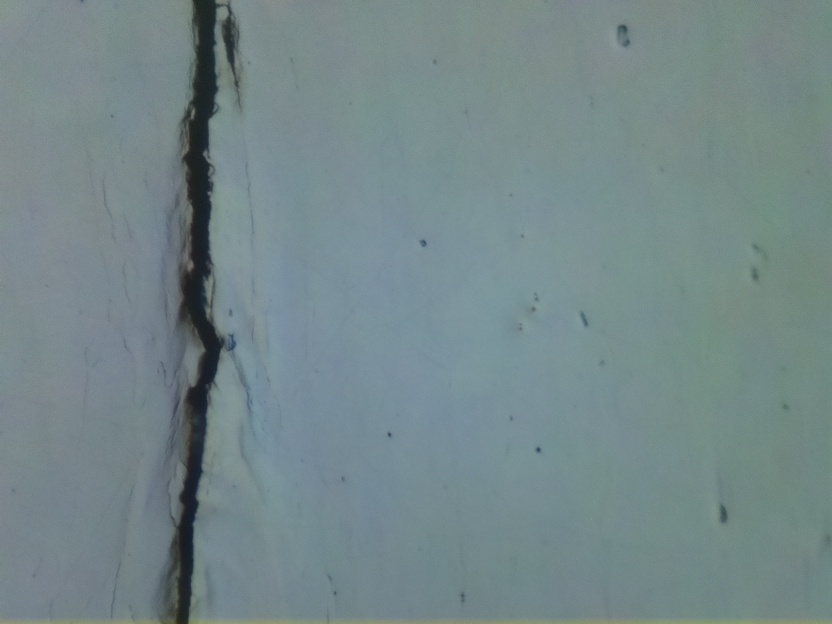crack: (170, 1, 223, 621), (220, 8, 245, 105)
